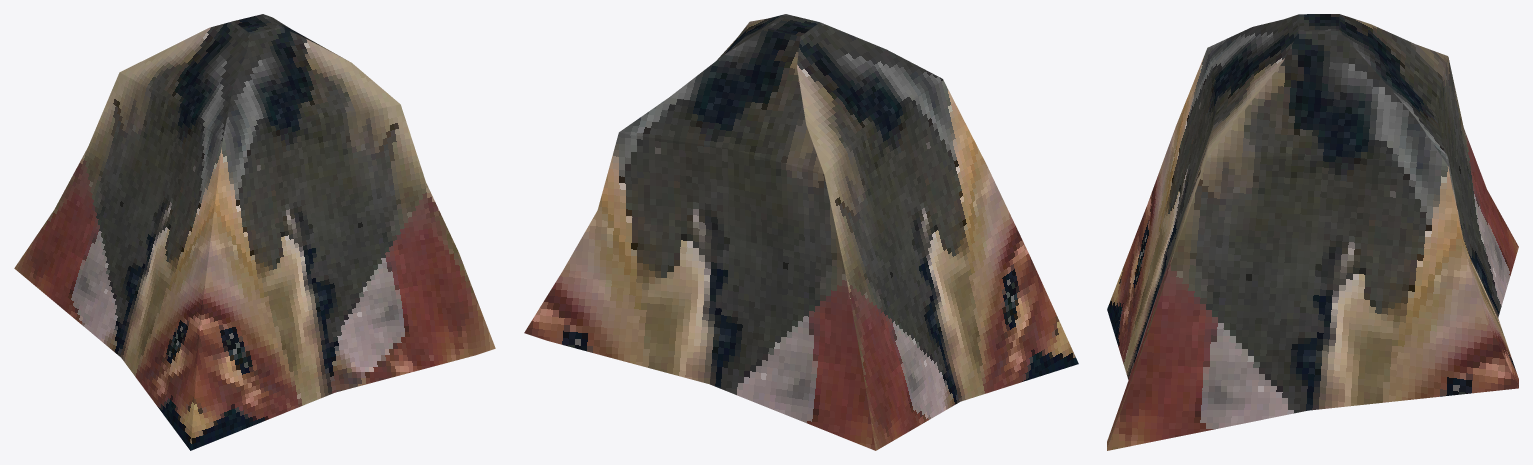
The picture shows the model from 3 angles, left to right: view 1: azimuth 30°, elevation 25°; view 2: azimuth 150°, elevation 25°; view 3: azimuth 270°, elevation 25°; orthographic projection. The views are drawn at different scales.
Visible parts, largest first — view 1: SPLICE_2; view 2: SPLICE_2; view 3: SPLICE_2.
Boxes of the visible parts, x1,y1,x2,y2 form: SPLICE_2: [14, 14, 495, 450]; SPLICE_2: [524, 14, 1078, 450]; SPLICE_2: [1107, 14, 1518, 450].
Bounding box in the file's own units: 1.11 × 1.12 × 1.11.
1 material, 1 textured.
